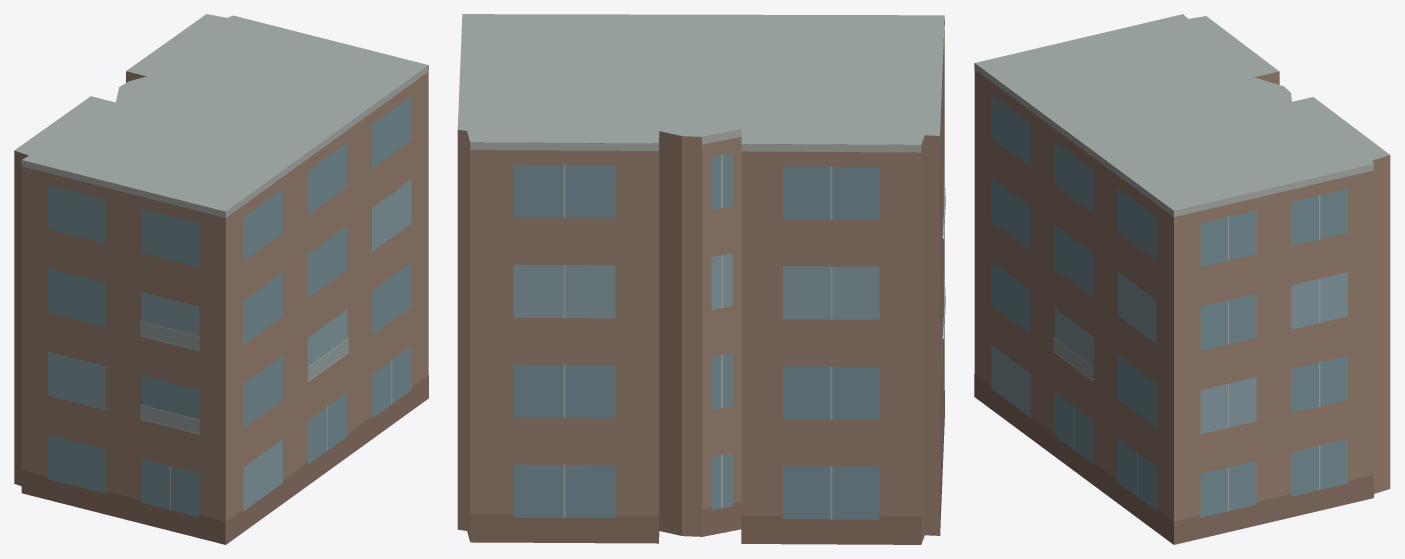
The model's file is survey-upis-32633138.glb.
3 renders of one model, left to right at view 1: azimuth 30°, elevation 25°; view 2: azimuth 150°, elevation 25°; view 3: azimuth 270°, elevation 25°, orthographic. The views are drawn at different scales.
Visible parts, largest first — view 1: survey-upis-32633138.tmp; view 2: survey-upis-32633138.tmp; view 3: survey-upis-32633138.tmp.
Boxes of the visible parts, bbox=[...] form: survey-upis-32633138.tmp: bbox=[14, 14, 428, 544]; survey-upis-32633138.tmp: bbox=[457, 14, 945, 544]; survey-upis-32633138.tmp: bbox=[974, 14, 1390, 544].
Bounding box in the file's own units: 16.19 × 12.8 × 14.45.
